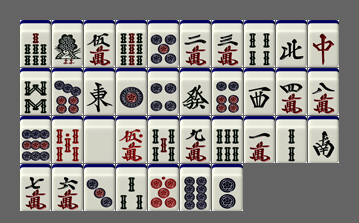0m: (116, 116, 147, 163)
0p: (148, 164, 179, 211)
0s: (52, 116, 83, 163)
1m: (244, 116, 275, 163)
1p: (116, 68, 147, 115)
1s: (52, 20, 83, 67)
1z: (84, 68, 115, 115)
2m: (180, 20, 211, 67)
2p: (212, 164, 243, 211)
2s: (276, 116, 307, 163)
2z: (308, 116, 339, 163)
3m: (212, 20, 243, 67)
3p: (84, 164, 115, 211)
3s: (116, 164, 147, 211)
3z: (244, 68, 275, 115)
4m: (276, 68, 307, 115)
4p: (148, 68, 179, 115)
4s: (244, 20, 275, 67)
4z: (276, 20, 307, 67)
5m: (84, 20, 115, 67)
5p: (148, 20, 179, 67)
5s: (148, 116, 179, 163)
5z: (84, 116, 115, 163)
6m: (52, 164, 83, 211)
6p: (212, 68, 243, 115)
6s: (212, 116, 243, 163)
6z: (180, 68, 211, 115)
7m: (20, 164, 51, 211)
7p: (52, 68, 83, 115)
7s: (20, 20, 51, 67)
7z: (308, 20, 339, 67)
8m: (308, 68, 339, 115)
8p: (180, 164, 211, 211)
8s: (20, 68, 51, 115)
9m: (180, 116, 211, 163)
9p: (20, 116, 51, 163)
9s: (116, 20, 147, 67)
